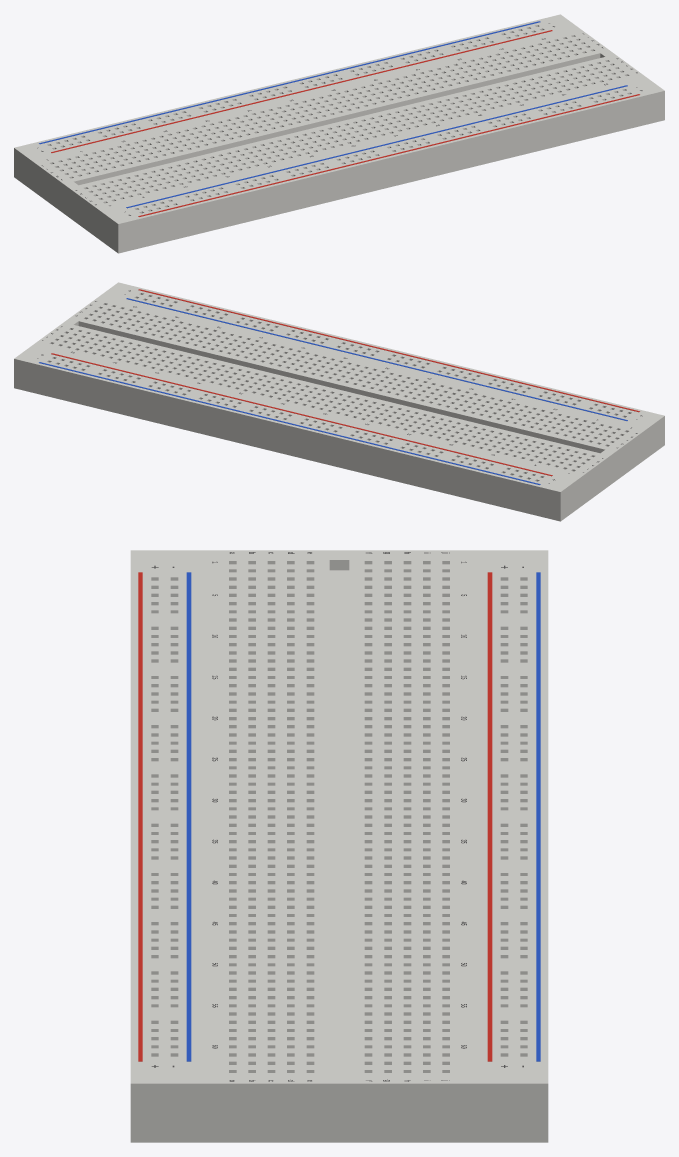
File: breadboard-830.glb
3 views of the same model, one above another, from view 1: azimuth 30°, elevation 25°; view 2: azimuth 150°, elevation 25°; view 3: azimuth 270°, elevation 25° (orthographic). The views are drawn at different scales.
Bounding box in the file's own units: 0.1651 × 0.00855 × 0.0546.
